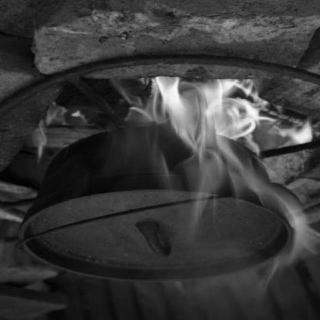Fire: (15, 75, 312, 299)
